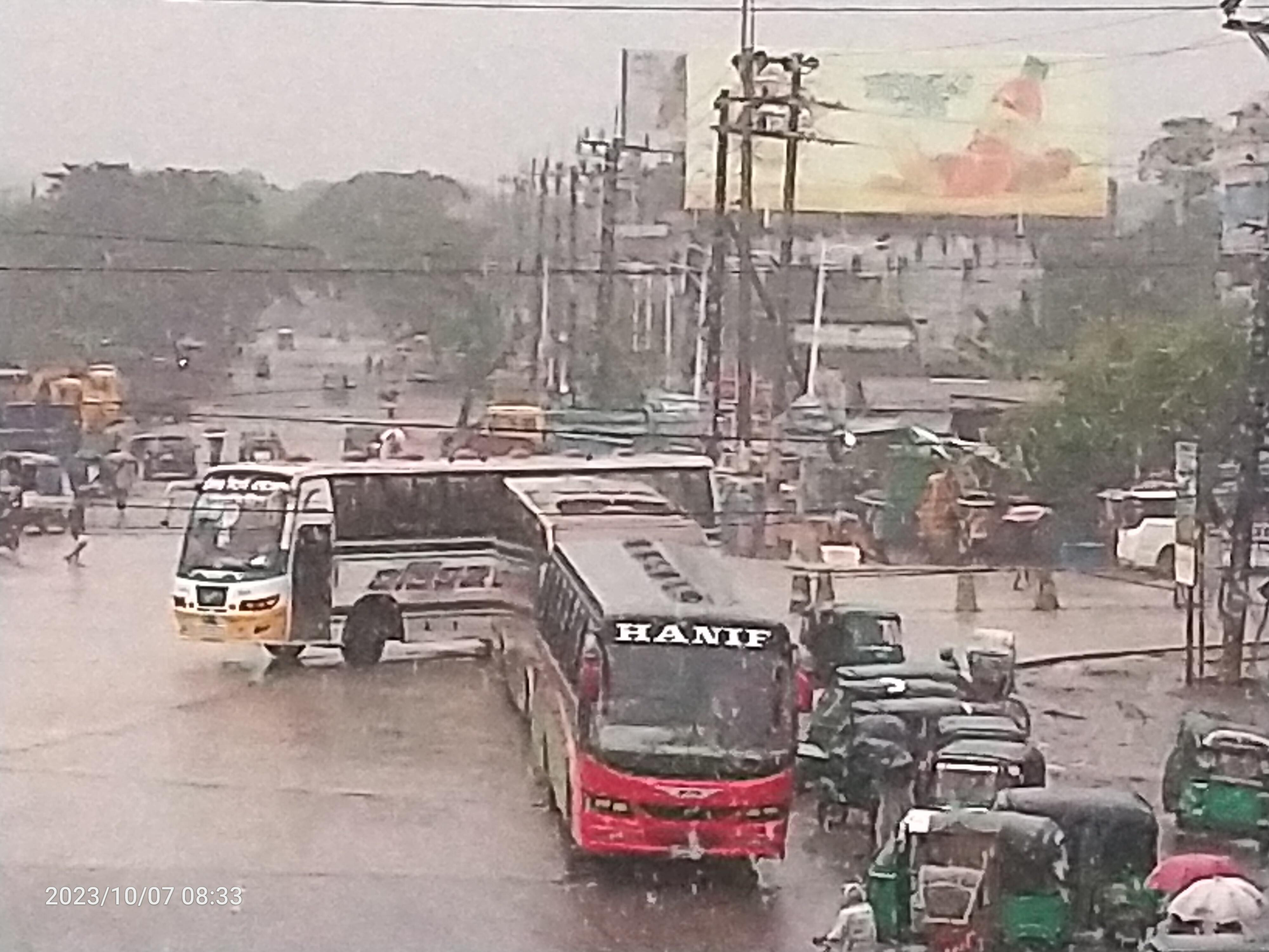Bus: (157, 440, 763, 671), (502, 499, 820, 922)
